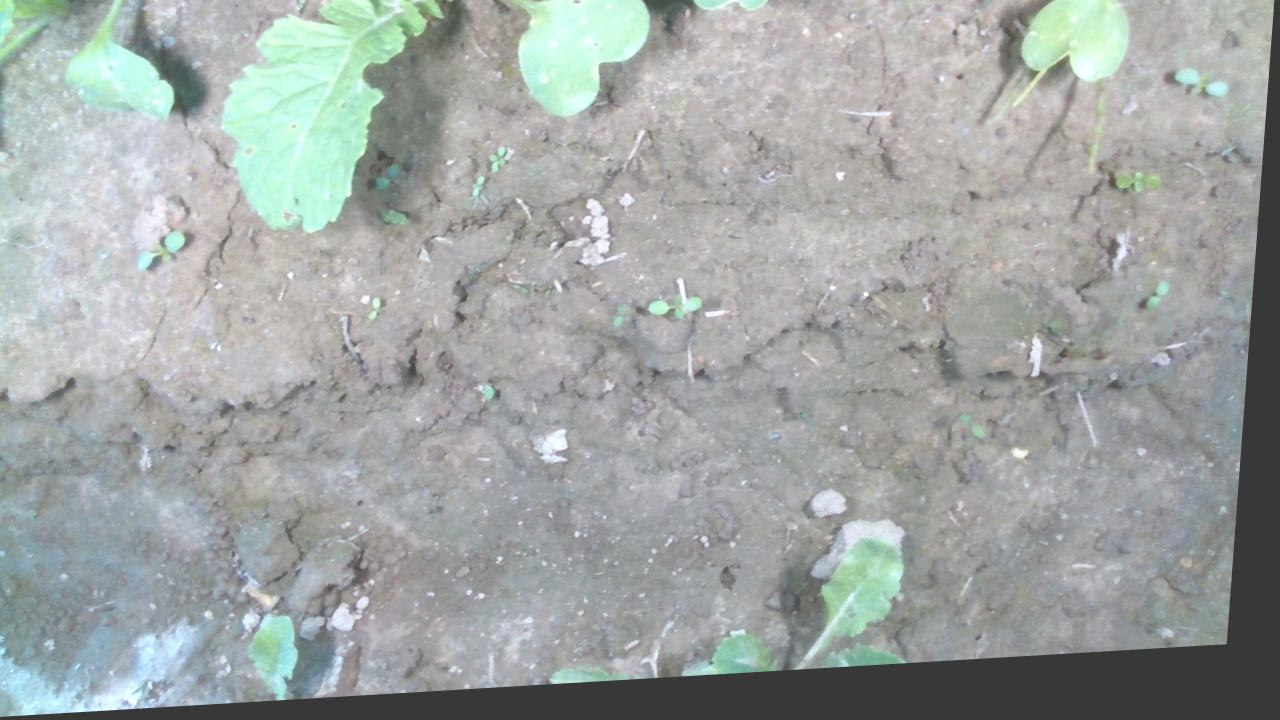weed: (138, 227, 191, 274)
